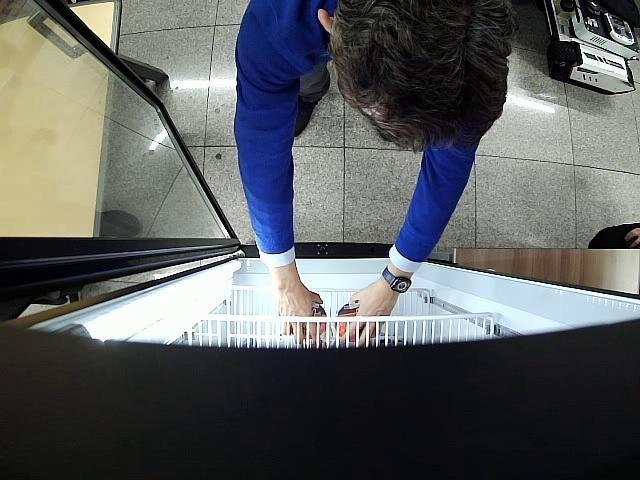02_shinRamen_S: (291, 304, 328, 338), (336, 303, 356, 341)
